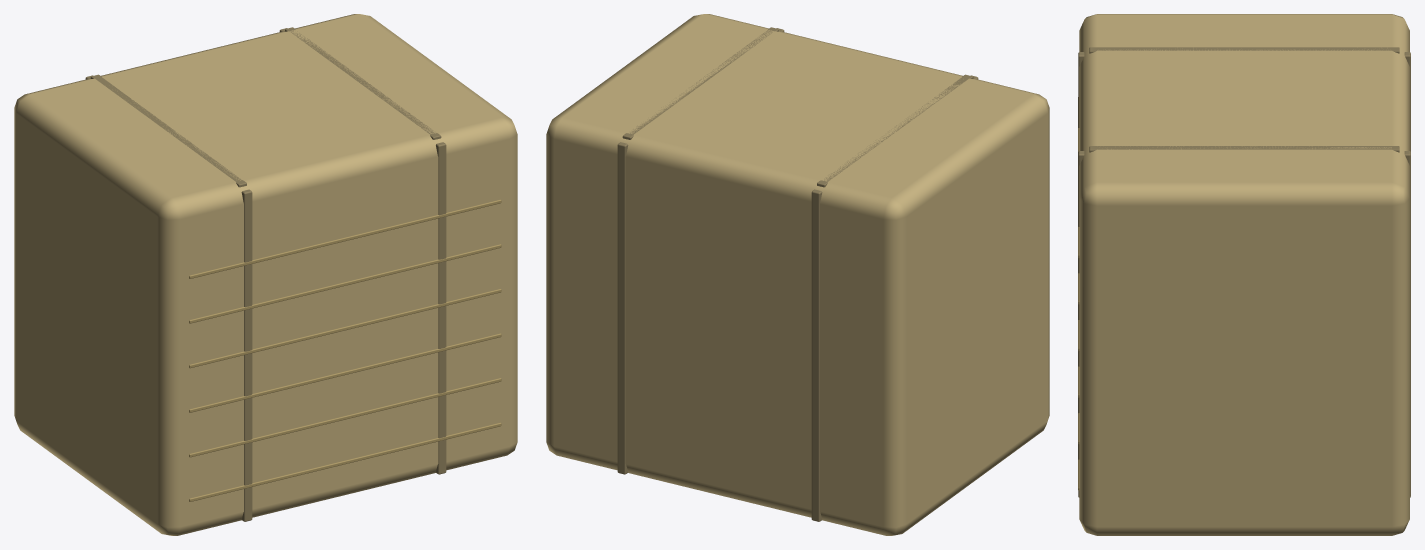
File: haybale.glb
3 renders of one model, left to right at view 1: azimuth 30°, elevation 25°; view 2: azimuth 150°, elevation 25°; view 3: azimuth 270°, elevation 25°, orthographic. The views are drawn at different scales.
Parts seen in each view (by area): view 1: compressed-hay-bale, bale-face-binding--0-23-0-32, bale-face-binding-0-23-0-32, straw-band-4, straw-band-3, straw-band-1, straw-band-0, straw-band-2, straw-band-5, bale-top-binding--0-23, bale-top-binding-0-23; view 2: compressed-hay-bale, bale-face-binding--0-23--0-32, bale-face-binding-0-23--0-32, bale-top-binding-0-23, bale-top-binding--0-23; view 3: compressed-hay-bale, bale-top-binding--0-23, bale-top-binding-0-23, bale-face-binding-0-23--0-32.
Part boxes in pixels (bbox=[...]): compressed-hay-bale: bbox=[14, 14, 517, 535]; bale-face-binding--0-23-0-32: bbox=[241, 189, 252, 521]; bale-face-binding-0-23-0-32: bbox=[436, 142, 446, 474]; straw-band-4: bbox=[189, 244, 501, 323]; straw-band-3: bbox=[189, 289, 501, 368]; straw-band-1: bbox=[189, 378, 501, 457]; straw-band-0: bbox=[189, 422, 501, 501]; straw-band-2: bbox=[189, 333, 501, 412]; straw-band-5: bbox=[189, 199, 501, 278]; bale-top-binding--0-23: bbox=[90, 74, 246, 187]; bale-top-binding-0-23: bbox=[285, 27, 441, 139]; compressed-hay-bale: bbox=[546, 14, 1049, 535]; bale-face-binding--0-23--0-32: bbox=[811, 189, 822, 521]; bale-face-binding-0-23--0-32: bbox=[617, 142, 628, 474]; bale-top-binding-0-23: bbox=[622, 27, 778, 139]; bale-top-binding--0-23: bbox=[817, 74, 973, 187]; compressed-hay-bale: bbox=[1079, 14, 1409, 535]; bale-top-binding--0-23: bbox=[1089, 47, 1399, 53]; bale-top-binding-0-23: bbox=[1089, 146, 1399, 152]; bale-face-binding-0-23--0-32: bbox=[1404, 151, 1410, 497].
Bounding box in the file's own units: 0.85 × 0.766 × 0.6545.
